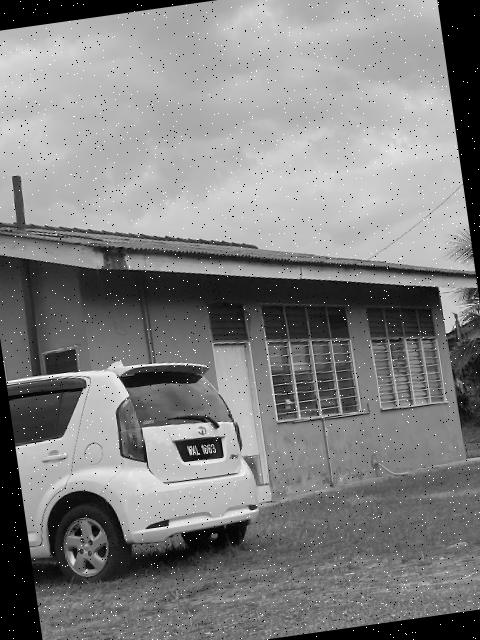License_Plate: (180, 438, 227, 468)
car: (6, 338, 269, 591)
